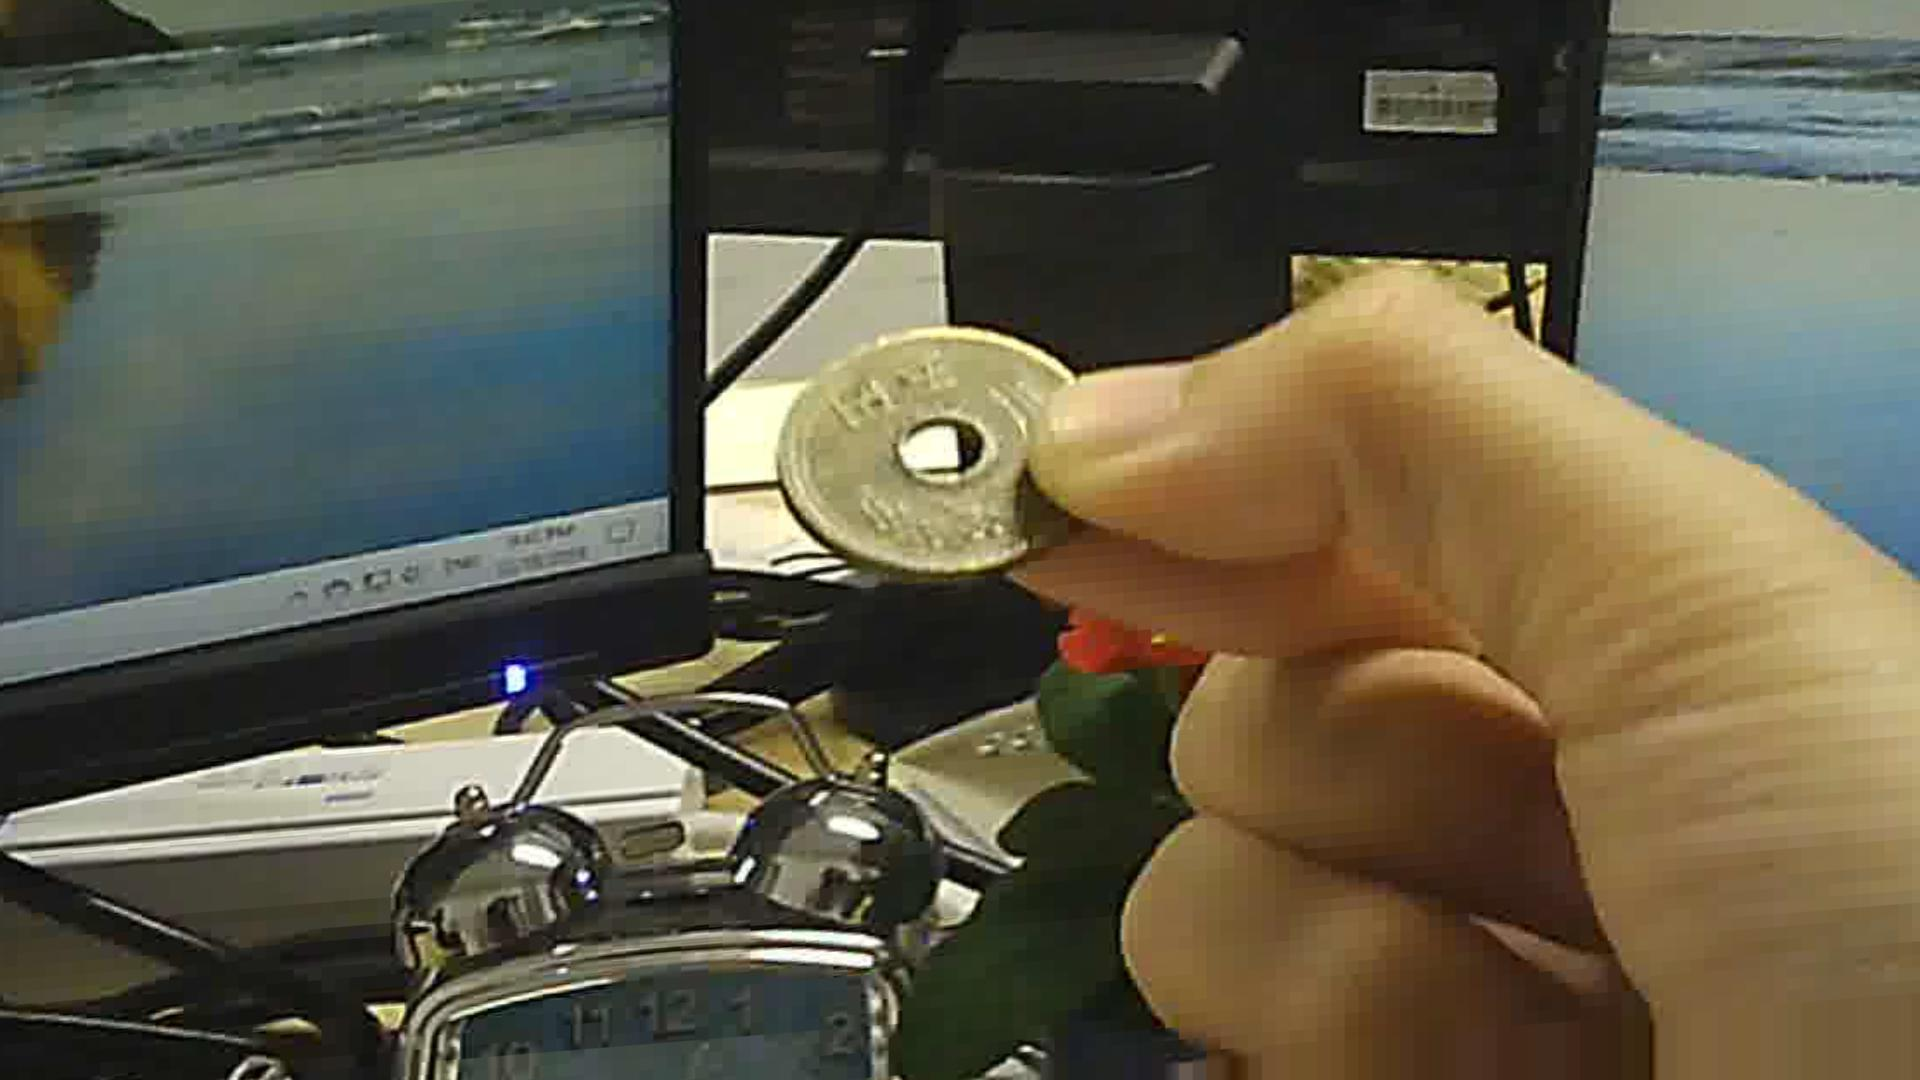5 Yen: (782, 305, 1118, 597)
